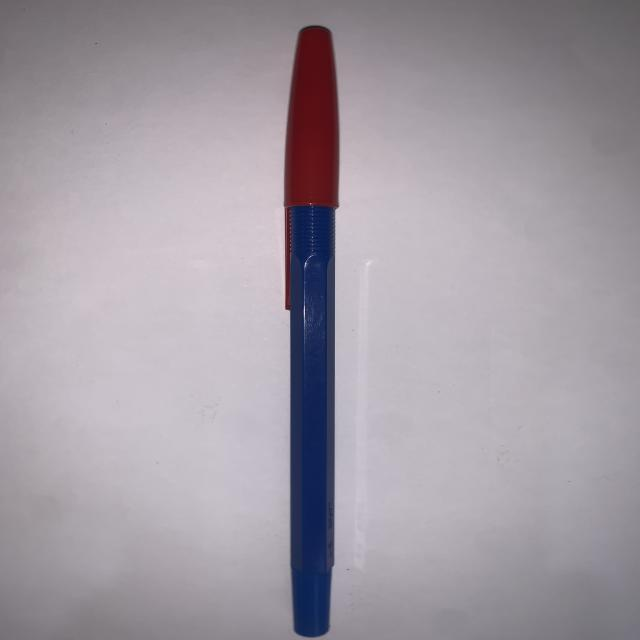Pulpen: (256, 16, 375, 640)
